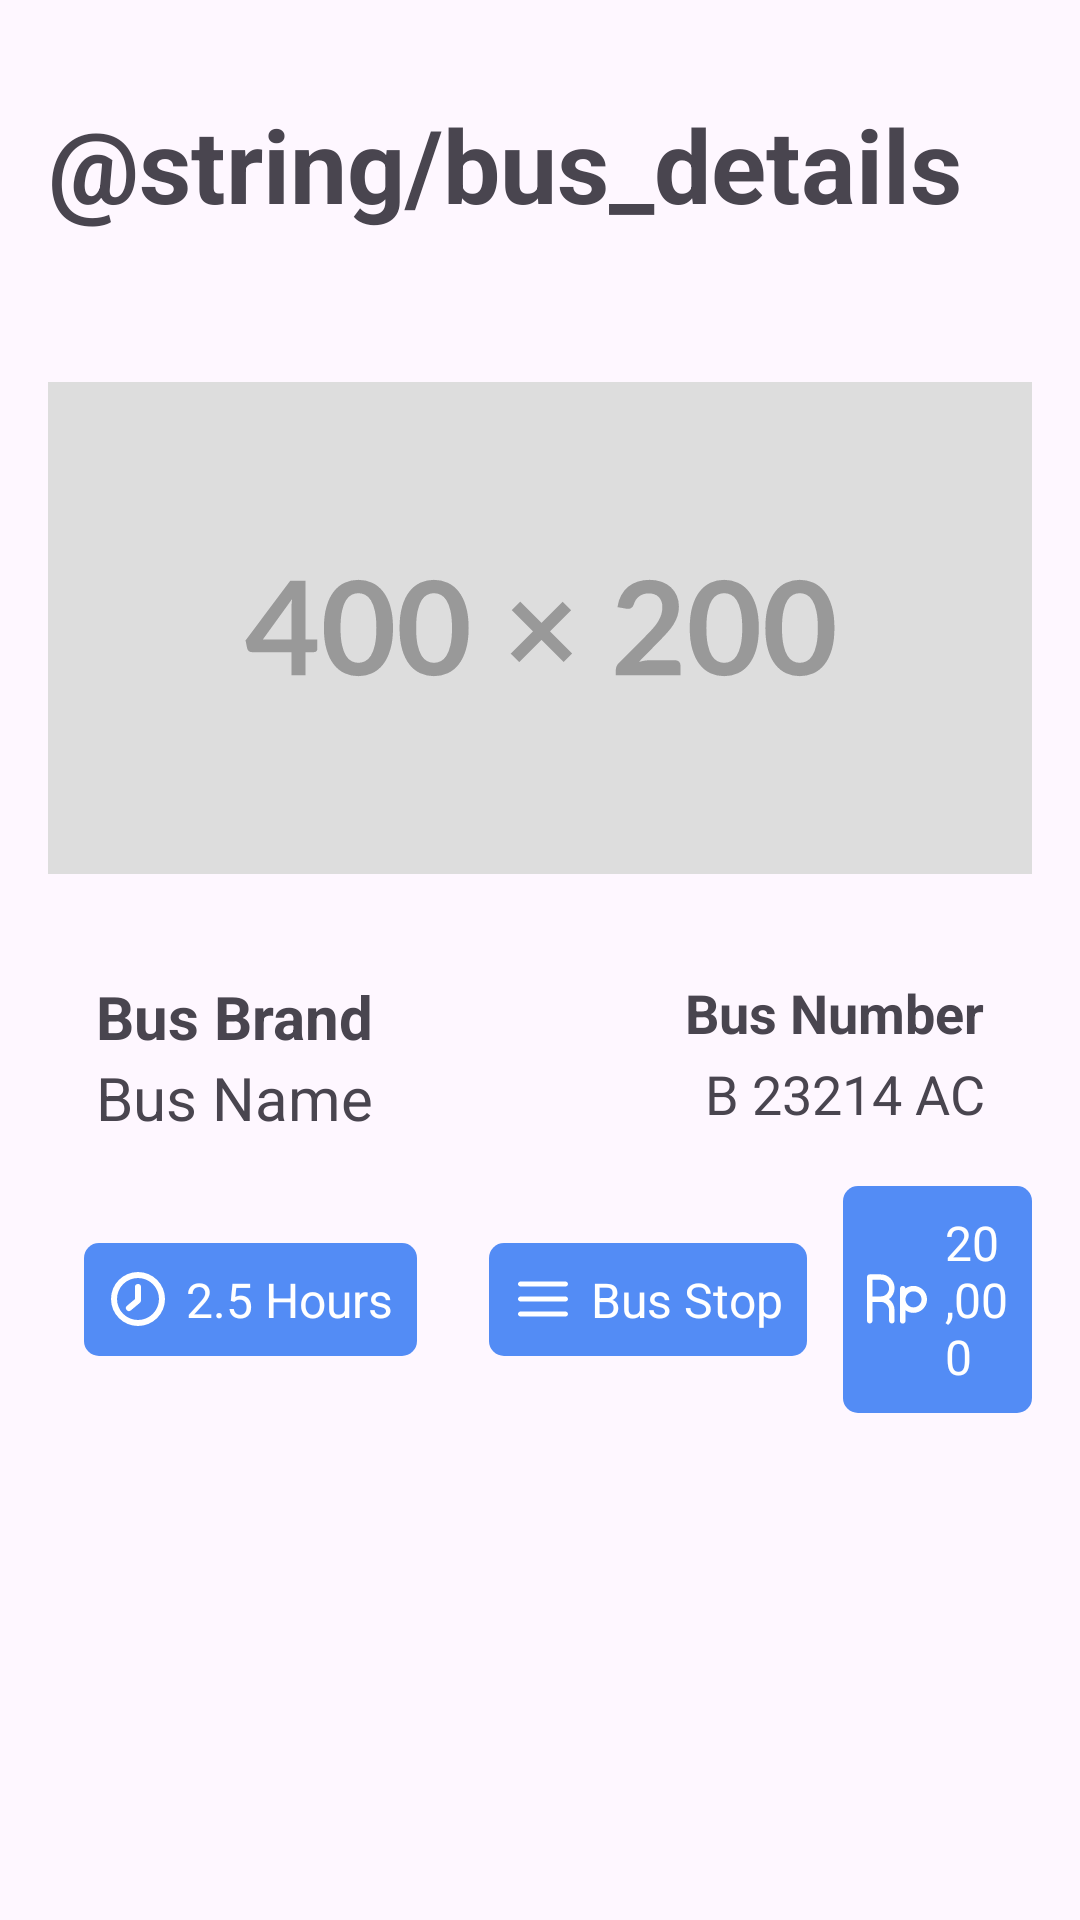

Point at icon controls on the screen. Image size 1080*1920, points as point (x, y).
clock: point (138, 1299)
line: point (543, 1299)
